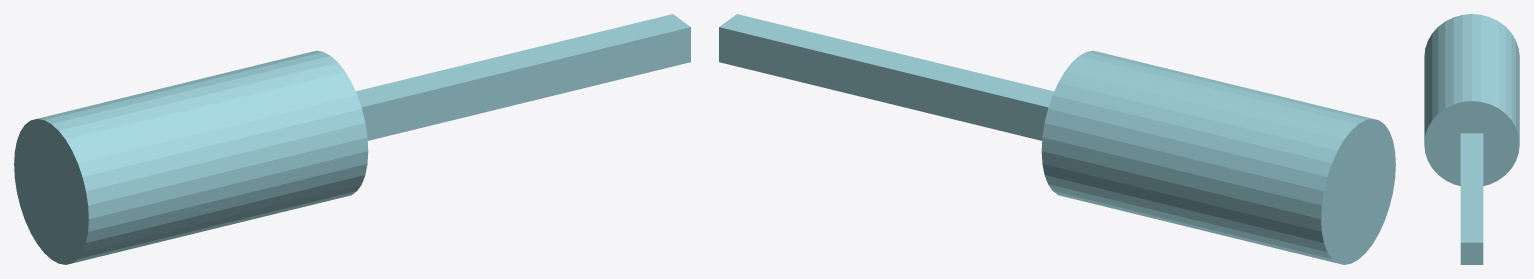
Rendered from cylinder_screwdriver_v3010.obj.
3 views of the same model, side by side, from view 1: azimuth 30°, elevation 25°; view 2: azimuth 150°, elevation 25°; view 3: azimuth 270°, elevation 25° (orthographic). The views are drawn at different scales.
Size of the model in its own units: 0.2635 by 0.0541 by 0.0541.
1 material, 1 textured.
